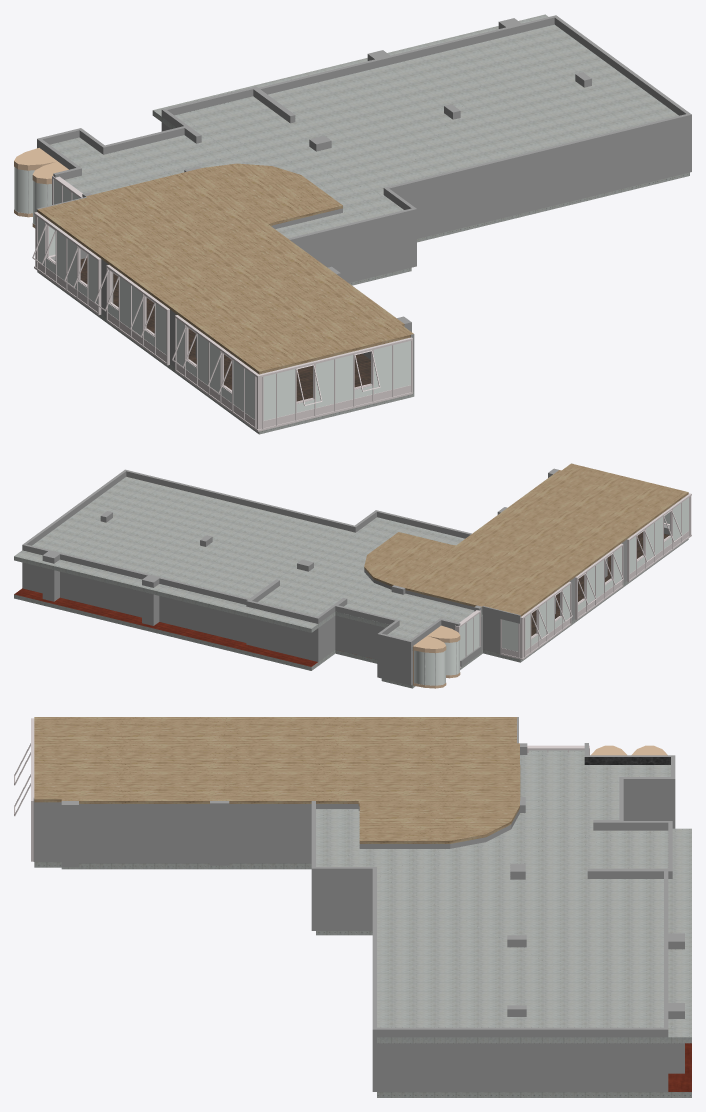
File: basic2.fbx
The picture shows the model from 3 angles, top to bottom: view 1: azimuth 30°, elevation 25°; view 2: azimuth 150°, elevation 25°; view 3: azimuth 270°, elevation 25°; orthographic projection. The views are drawn at different scales.
Parts seen in each view (by area): view 1: Döşeme, Duvar, Giydirme Cephe Paneli, Giydirme Cephe Çerçevesi, Obje, Kolon Segmenti; view 2: Döşeme, Duvar, Giydirme Cephe Paneli, Giydirme Cephe Çerçevesi, Kolon Segmenti, Obje, Kiriş Segmenti; view 3: Döşeme, Duvar, Kolon Segmenti, Giydirme Cephe Çerçevesi, Obje.
Part boxes in pixels (bbox=[...]): Döşeme: bbox=[37, 14, 689, 434]; Duvar: bbox=[37, 15, 691, 391]; Giydirme Cephe Paneli: bbox=[32, 179, 410, 427]; Giydirme Cephe Çerçevesi: bbox=[34, 176, 412, 431]; Obje: bbox=[14, 148, 68, 228]; Kolon Segmenti: bbox=[80, 18, 591, 357]; Döşeme: bbox=[14, 463, 688, 688]; Duvar: bbox=[22, 463, 669, 685]; Giydirme Cephe Paneli: bbox=[459, 497, 688, 665]; Giydirme Cephe Çerçevesi: bbox=[455, 493, 691, 667]; Kolon Segmenti: bbox=[42, 468, 607, 653]; Obje: bbox=[413, 625, 460, 688]; Kiriş Segmenti: bbox=[482, 540, 625, 623]; Döşeme: bbox=[34, 717, 691, 1097]; Duvar: bbox=[33, 743, 675, 1091]; Kolon Segmenti: bbox=[61, 797, 684, 1073]; Giydirme Cephe Çerçevesi: bbox=[31, 718, 589, 861]; Obje: bbox=[591, 745, 667, 755].
Bounding box in the file's own units: 3530 × 350 × 3148.
15 materials, 10 textured.
